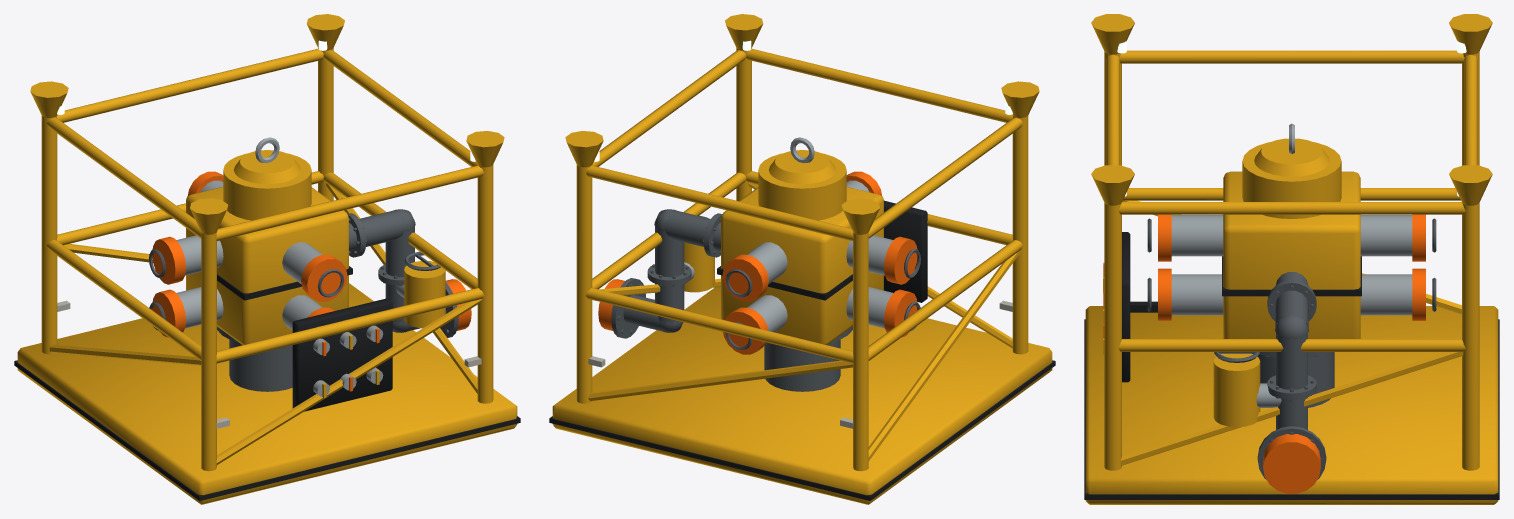
File: anm.glb
The picture shows the model from 3 angles, left to right: view 1: azimuth 30°, elevation 25°; view 2: azimuth 150°, elevation 25°; view 3: azimuth 270°, elevation 25°; orthographic projection. The views are drawn at different scales.
Visible parts, largest first — view 1: anm_amarelo_sub, anm_preto_rov, anm_aco_escuro, anm_aco, anm_laranja_rov; view 2: anm_amarelo_sub, anm_aco_escuro, anm_preto_rov, anm_laranja_rov, anm_aco; view 3: anm_amarelo_sub, anm_aco, anm_aco_escuro, anm_laranja_rov, anm_preto_rov.
Boxes of the visible parts, <box> form: anm_amarelo_sub: <box>17,14,517,504</box>; anm_preto_rov: <box>14,266,520,500</box>; anm_aco_escuro: <box>149,209,458,391</box>; anm_aco: <box>176,137,404,396</box>; anm_laranja_rov: <box>152,171,471,391</box>; anm_amarelo_sub: <box>552,14,1052,504</box>; anm_aco_escuro: <box>611,209,920,391</box>; anm_preto_rov: <box>549,200,1055,500</box>; anm_laranja_rov: <box>598,171,917,354</box>; anm_aco: <box>684,137,893,332</box>; anm_amarelo_sub: <box>1085,14,1498,504</box>; anm_aco: <box>1171,123,1412,407</box>; anm_aco_escuro: <box>1147,218,1436,479</box>; anm_laranja_rov: <box>1103,214,1425,493</box>; anm_preto_rov: <box>1084,232,1499,499</box>.
Bounding box in the file's own units: 6.62 × 5.15 × 6.04.
